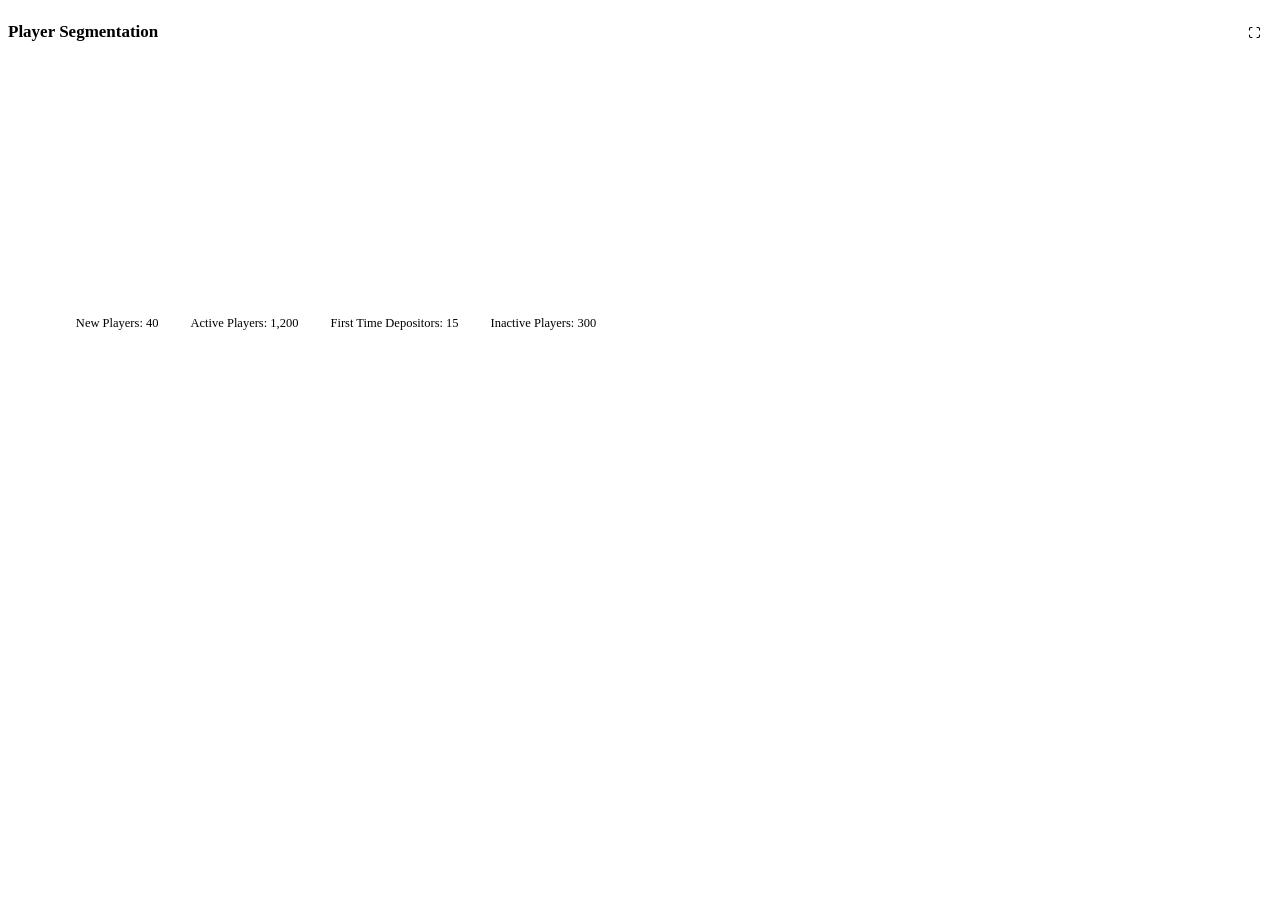
PlayerSegmentationChart legend › the expand dialog carries the same legend
What coordinates should you click on to do the following:
click the button named "Expand Player Segmentation"
I would click on:
 (1254, 32)
Its box is [1236,14,1272,50].
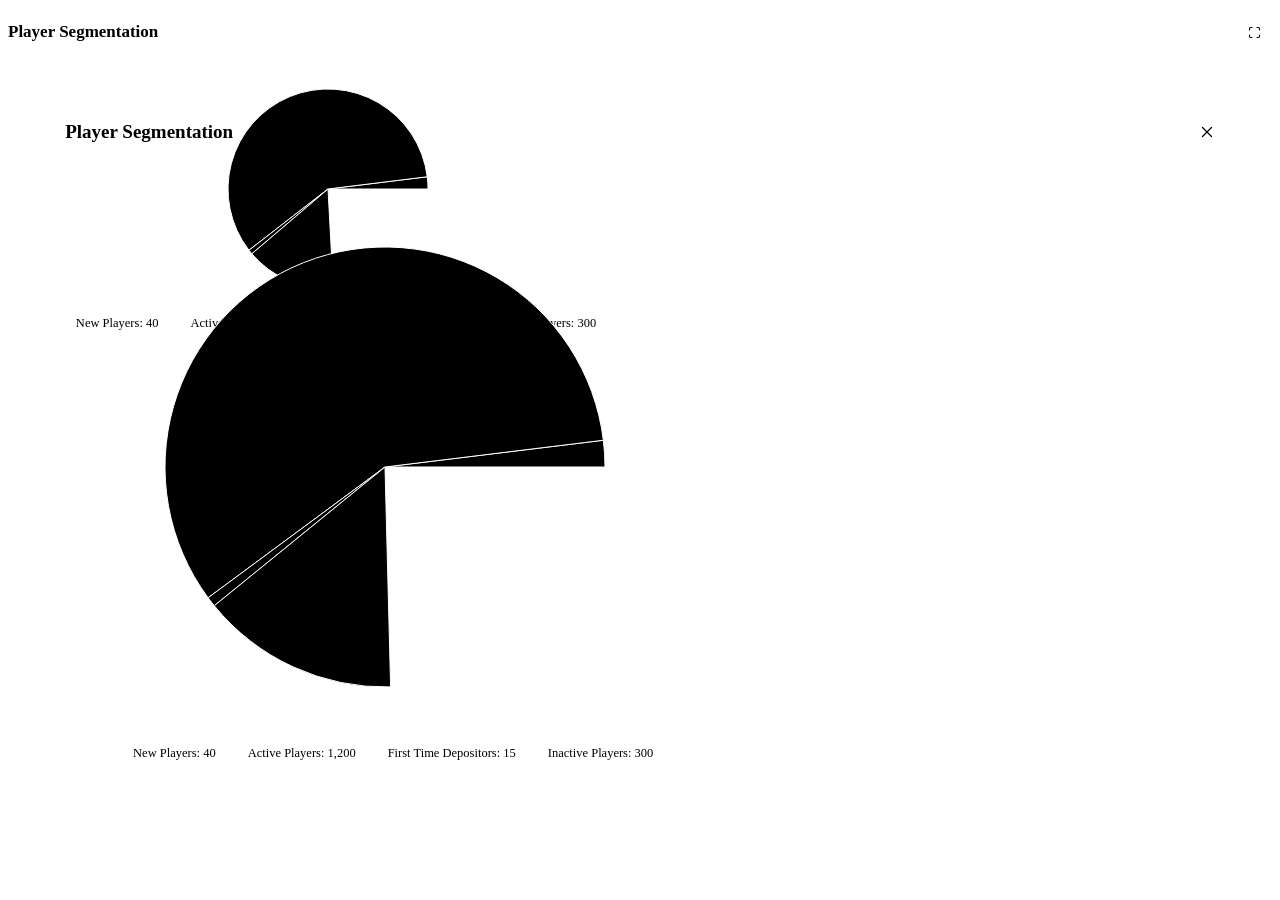
Result: the text "Inactive Players: 300" is shown at [548,744,653,763]
